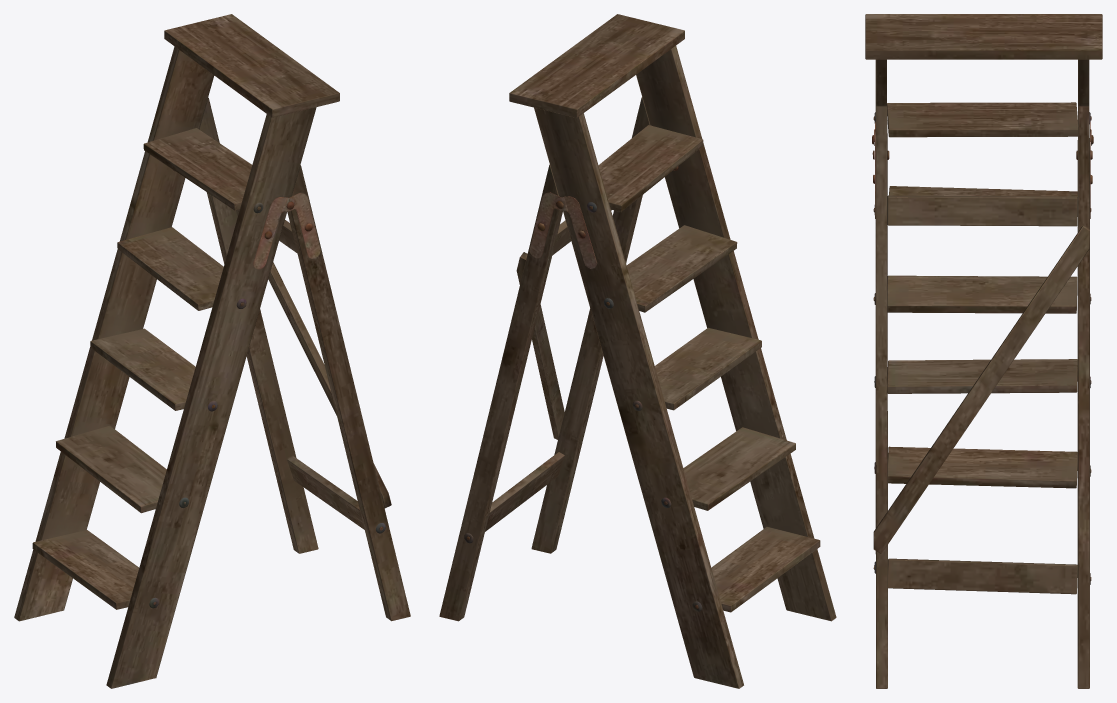
Rendered from wooden_ladder_02.glb.
3 renders of one model, left to right at view 1: azimuth 30°, elevation 25°; view 2: azimuth 150°, elevation 25°; view 3: azimuth 270°, elevation 25°, orthographic. The views are drawn at different scales.
Parts seen in each view (by area): view 1: wooden_ladder_02; view 2: wooden_ladder_02; view 3: wooden_ladder_02.
Boxes of the visible parts, left/top/right/bottom form: wooden_ladder_02: left=14, top=14, right=410, bottom=688; wooden_ladder_02: left=439, top=14, right=836, bottom=688; wooden_ladder_02: left=865, top=14, right=1102, bottom=688.
Size of the model in its own units: 0.9895 by 1.72 by 0.6181.
Materials: 1 (1 with a texture image).
